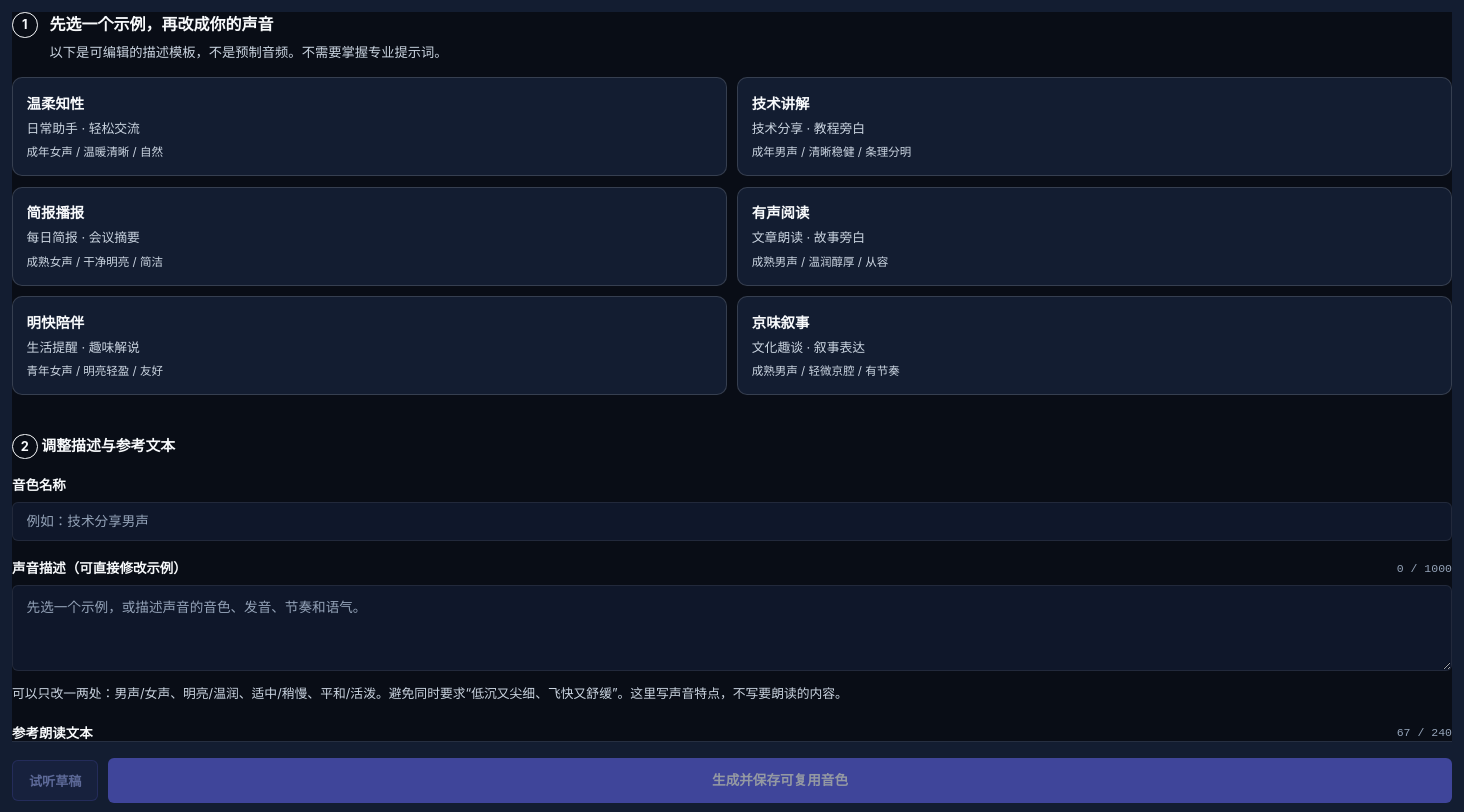
keeps templates editable but cannot register when model metadata is incomplete
Click the button "技术讲解 技术分享 · 教程旁白 成年男声 / 清晰稳健 / 条理分明": (781, 103) [737,77,1452,176]
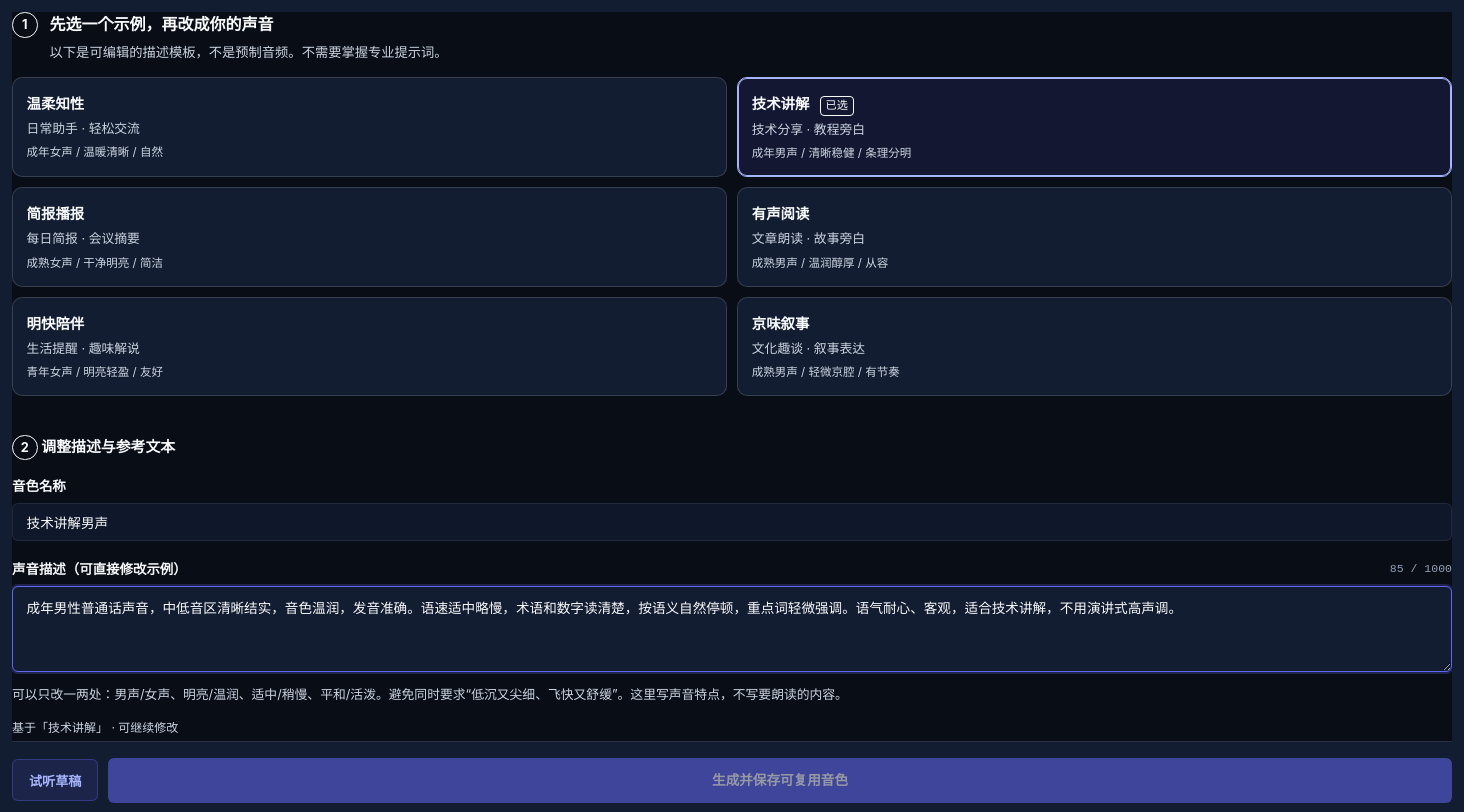
Check: the button "生成并保存可复用音色" is disabled, box [108,758,1452,803]
Check: the button "试听草稿" is enabled, box [12,759,98,801]
